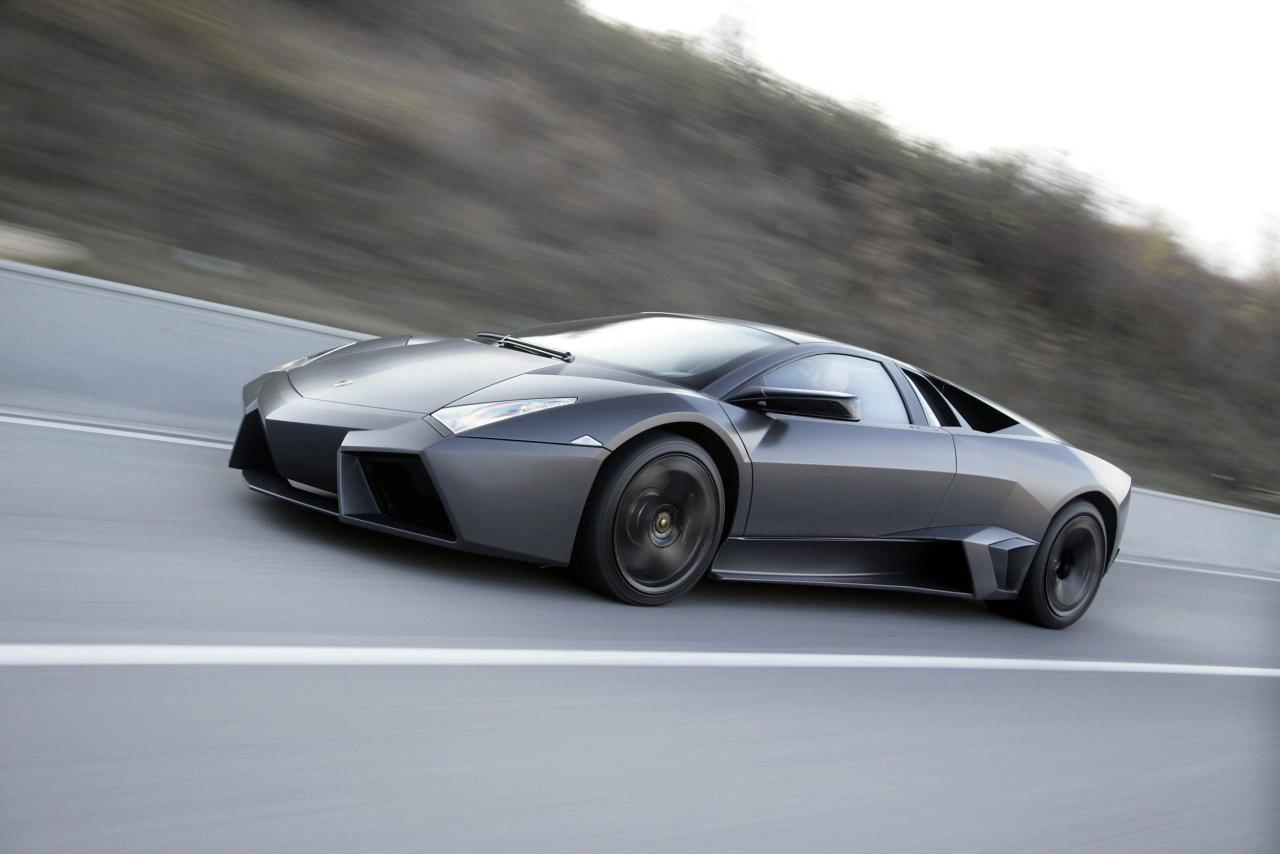Car: (177, 254, 1154, 669)
